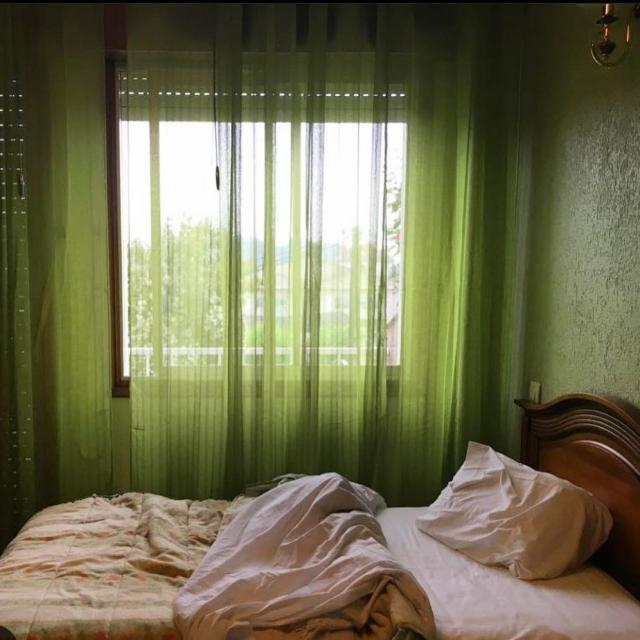bed: (14, 380, 632, 633)
